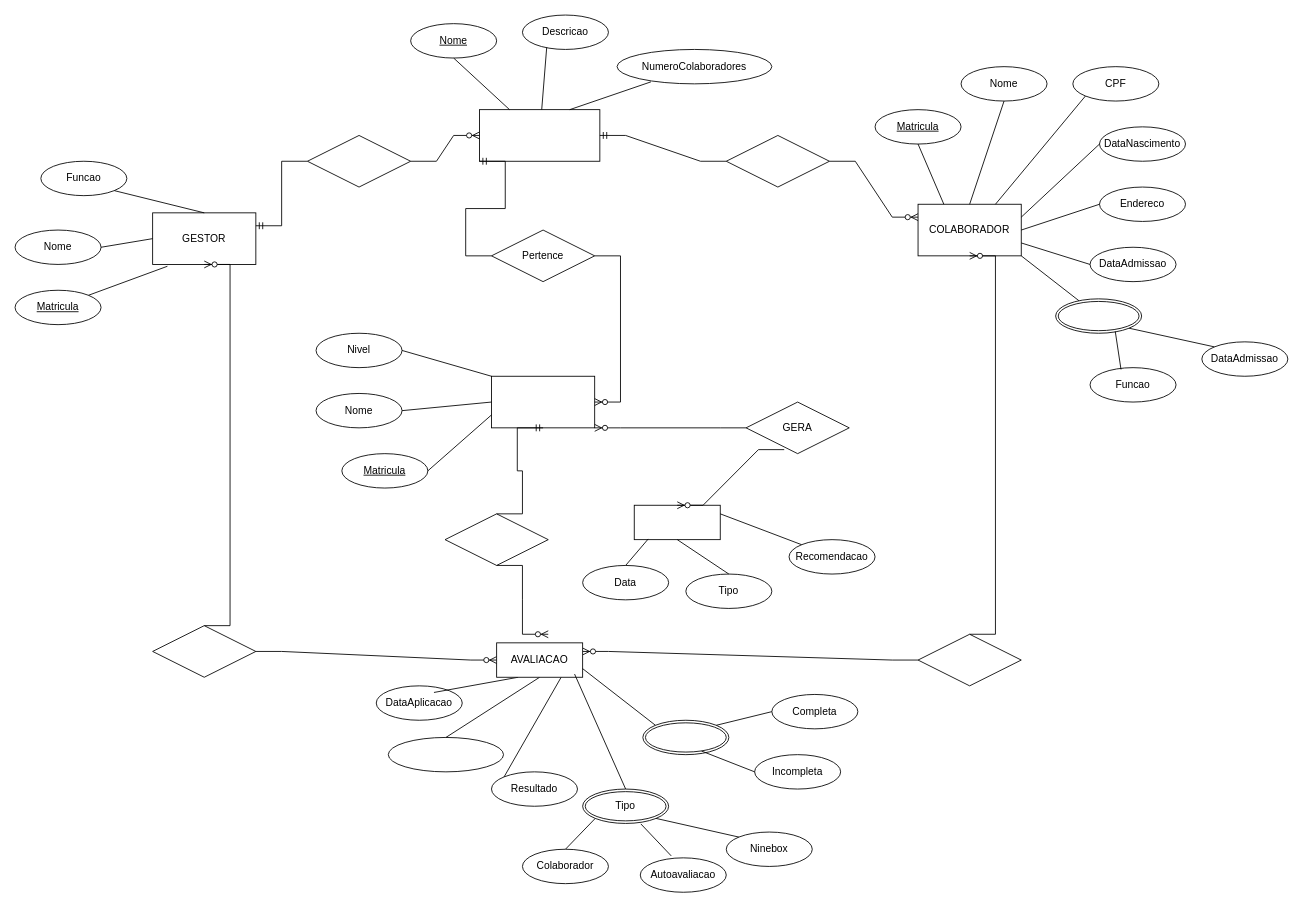
Image size: 1303x907. Some labels were removed from this diagram. Here are the shapes that lost their labels. From the top down, the box of each, then its label:
(479, 109, 600, 161): DEPARTAMENTO
(307, 135, 411, 187): COORDENA
(725, 135, 829, 187): TRABALHA
(1055, 298, 1142, 333): Cargo
(491, 375, 595, 428): ANALISTA
(444, 513, 548, 565): VALIDA
(633, 504, 720, 540): RELATORIO
(152, 625, 256, 677): APLICA
(917, 633, 1021, 686): RECEBE
(387, 737, 504, 772): NumeroQuestoes
(642, 719, 729, 755): Status
